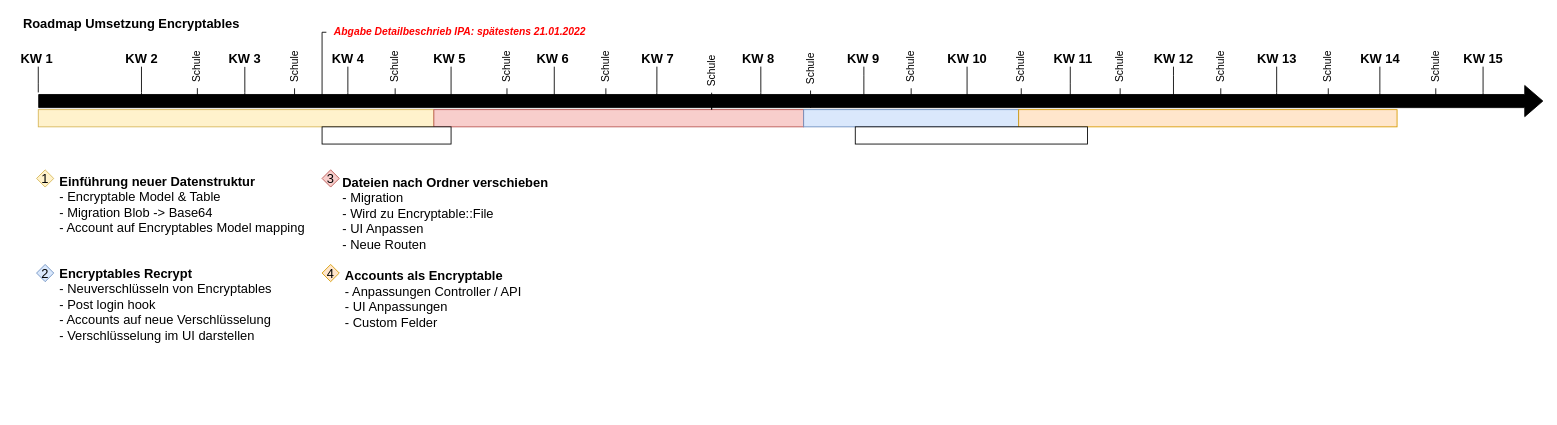
Some shapes in this 1557 by 425 pixel diagram are drawn without their labels. Each missing label, with the centre of its shape:
[1]: Datenstruktur - 15PT: point 235,118
[2]: Recrypt - 8PT: point 911,118
[3]: Dateien Verschieben - 15PT: point 618,118
[4]: Encryptable Account - 15PT: point 1207,118
IPA: point 970,135
Probe IPA: point 386,135
